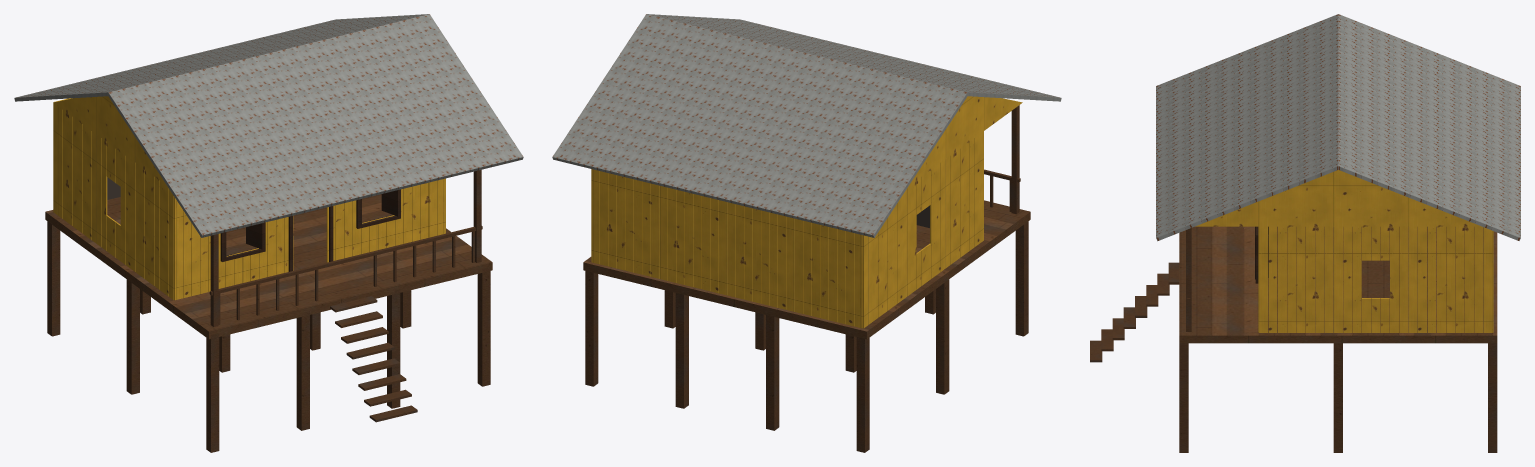
Rendered from rumah_d.glb.
3 renders of one model, left to right at view 1: azimuth 30°, elevation 25°; view 2: azimuth 150°, elevation 25°; view 3: azimuth 270°, elevation 25°, orthographic. The views are drawn at different scales.
Visible parts, largest first — view 1: rumah_d_seng, rumah_d_cat_kuning, rumah_d_kayu_balok, rumah_d_kayu_papan, rumah_d_kayu_tua; view 2: rumah_d_seng, rumah_d_cat_kuning, rumah_d_kayu_balok, rumah_d_kayu_papan; view 3: rumah_d_seng, rumah_d_cat_kuning, rumah_d_kayu_papan, rumah_d_kayu_balok.
Boxes of the visible parts, left/top/right/bottom form: rumah_d_seng: left=14, top=14, right=523, bottom=237; rumah_d_cat_kuning: left=53, top=96, right=445, bottom=300; rumah_d_kayu_balok: left=47, top=170, right=490, bottom=452; rumah_d_kayu_papan: left=45, top=194, right=492, bottom=339; rumah_d_kayu_tua: left=220, top=189, right=400, bottom=271; rumah_d_seng: left=552, top=14, right=1061, bottom=237; rumah_d_cat_kuning: left=591, top=96, right=1022, bottom=328; rumah_d_kayu_balok: left=585, top=105, right=1028, bottom=452; rumah_d_kayu_papan: left=583, top=200, right=1030, bottom=339; rumah_d_seng: left=1156, top=14, right=1520, bottom=241; rumah_d_cat_kuning: left=1195, top=170, right=1493, bottom=332; rumah_d_kayu_papan: left=1179, top=226, right=1497, bottom=343; rumah_d_kayu_balok: left=1090, top=228, right=1497, bottom=452.
Size of the model in its own units: 7.7 by 7 by 9.21.
Materials: 6 (5 with a texture image).
